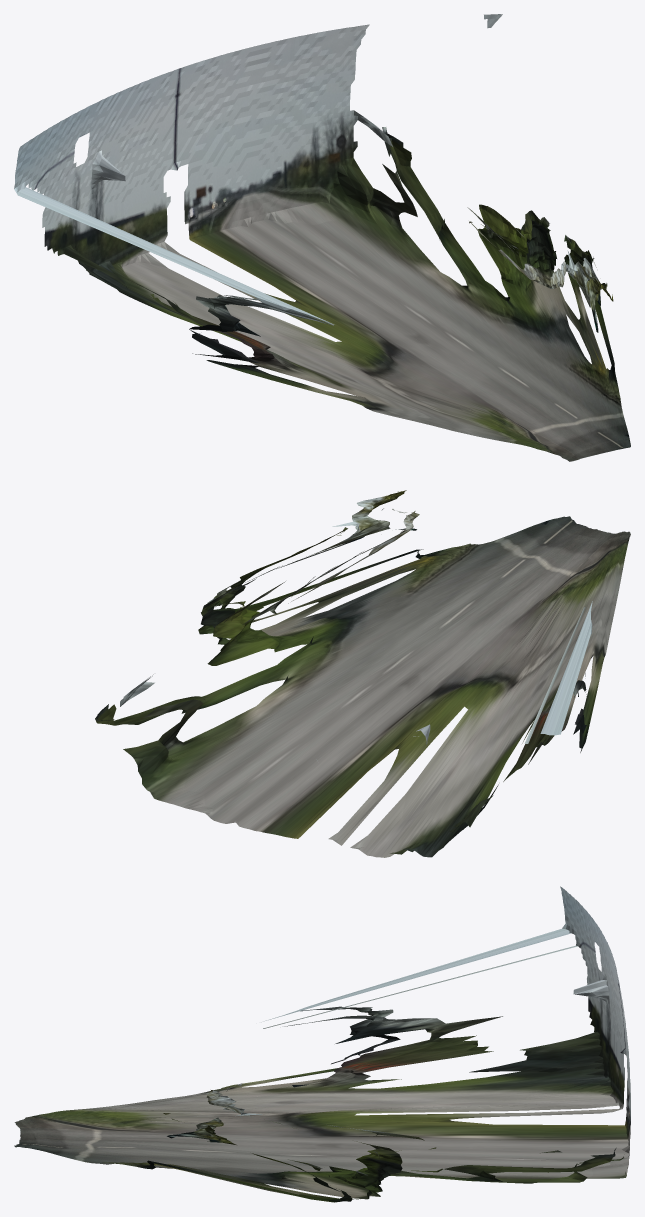
3 views of the same model, one above another, from view 1: azimuth 30°, elevation 25°; view 2: azimuth 150°, elevation 25°; view 3: azimuth 270°, elevation 25° (orthographic). The views are drawn at different scales.
Visible parts, largest first — view 1: defaultobject; view 2: defaultobject; view 3: defaultobject.
Boxes of the visible parts, x1,y1,x2,y2 form: defaultobject: (14, 14, 630, 461); defaultobject: (95, 490, 630, 857); defaultobject: (14, 886, 630, 1202).
Size of the model in its own units: 36.92 by 13.16 by 44.89.
Materials: 1 (1 with a texture image).
